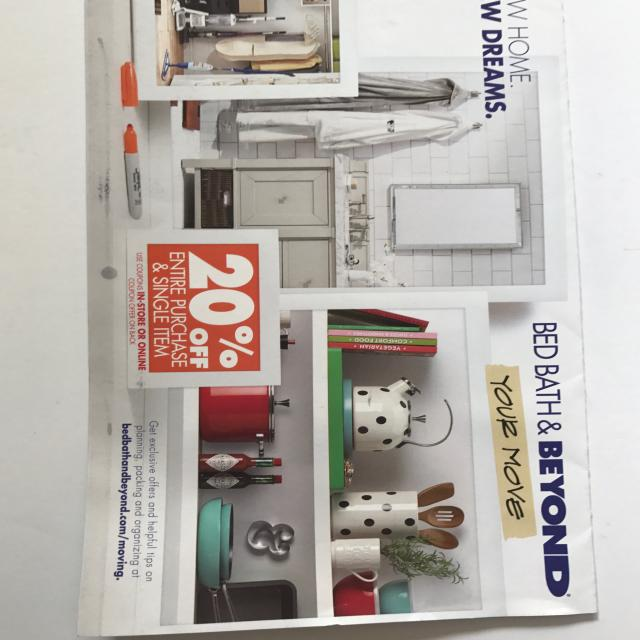paper: (63, 0, 615, 638)
